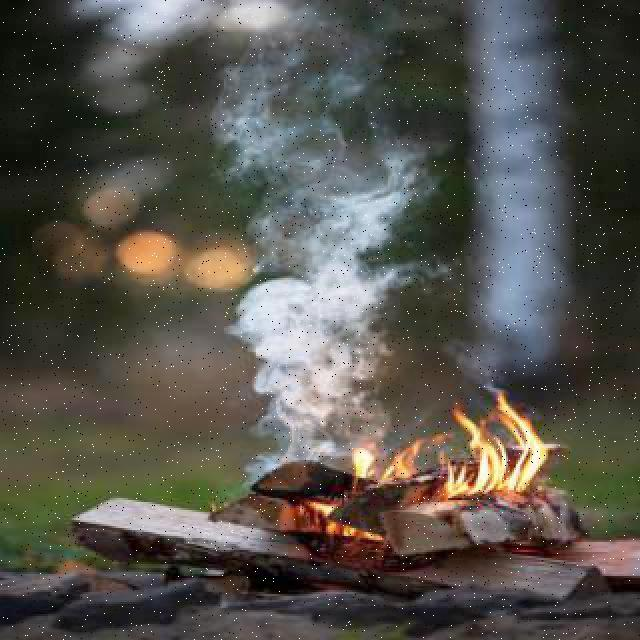fire: (414, 397, 562, 500)
smoke: (224, 40, 433, 461)
